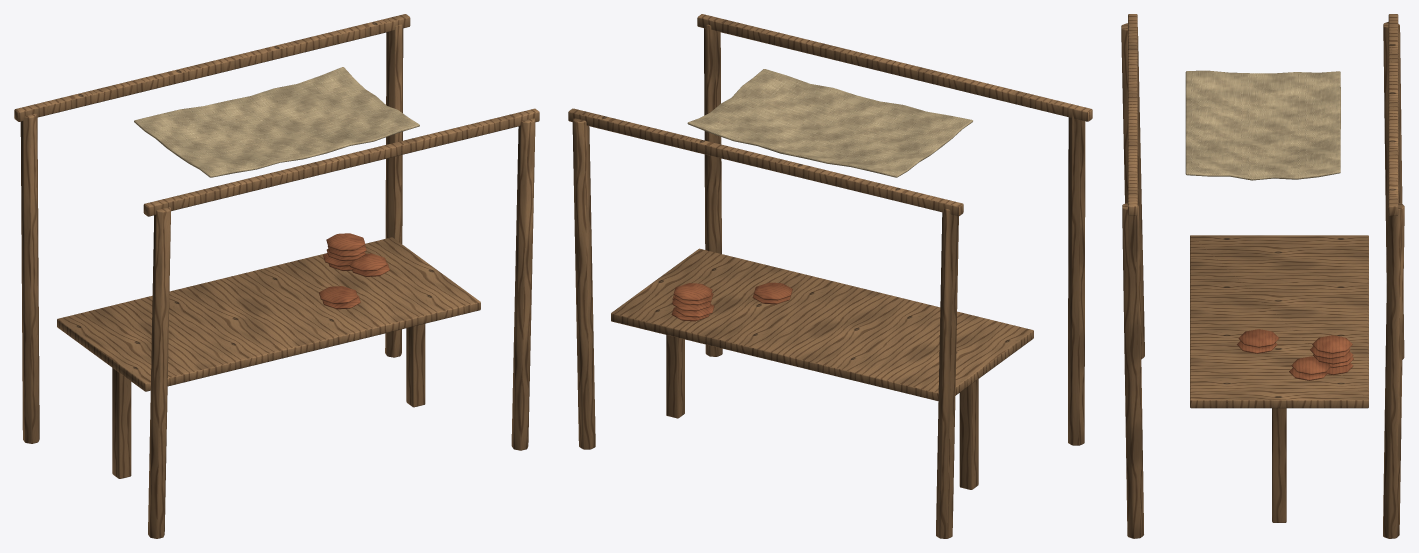
The model's file is canopy_bread.glb.
3 views of the same model, side by side, from view 1: azimuth 30°, elevation 25°; view 2: azimuth 150°, elevation 25°; view 3: azimuth 270°, elevation 25° (orthographic).
Visible parts, largest first — view 1: canopy_bread; view 2: canopy_bread; view 3: canopy_bread.
Part boxes in pixels (x1,y1,x2,y2): canopy_bread: (14,14,539,538); canopy_bread: (568,14,1092,538); canopy_bread: (1121,14,1404,538).
Size of the model in its own units: 2.8 by 2.29 by 1.74.
Materials: 3 (3 with a texture image).
